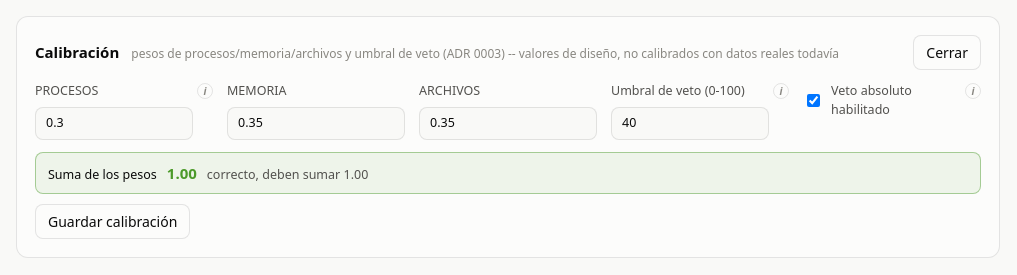
Test: CalibracionPanel › rechaza un peso en 0 sin esperar al error del backend
The image size is (1017, 275).
Replace the text in the number field labelled "PROCESOS" with "0": {"x": 114, "y": 123} [35,107,193,140]
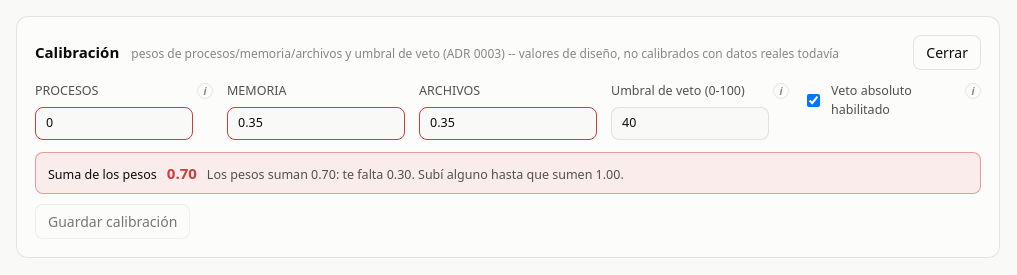
Replace the text in the number field labelled "MEMORIA" with "0.65": {"x": 316, "y": 123} [227,107,405,140]
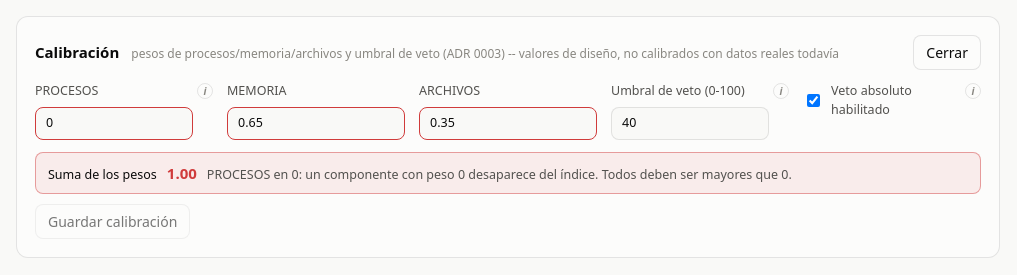
Check: the text "desaparece del índice" is shown, box [207,166,792,182]
